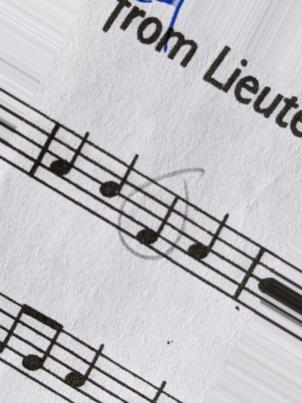A: (45, 117, 91, 212), (186, 204, 230, 298), (63, 333, 113, 403)
B: (93, 145, 140, 241)
F: (137, 172, 179, 268)
